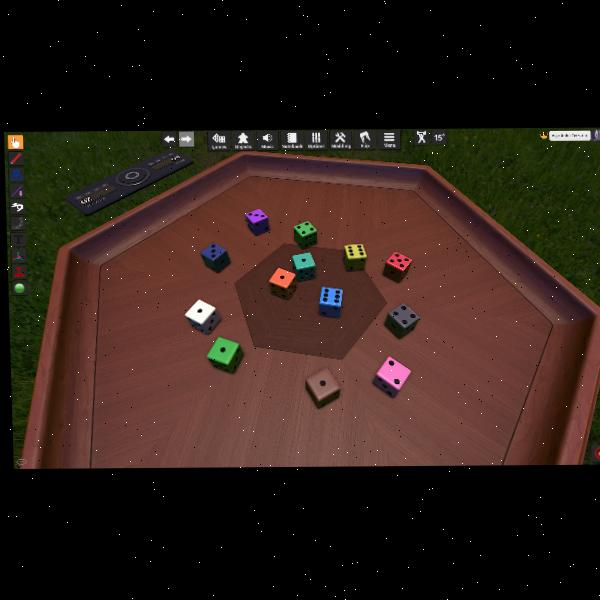d6: (372, 355, 411, 398), (306, 368, 341, 408), (206, 336, 243, 373), (384, 302, 420, 340), (185, 298, 221, 335), (382, 250, 412, 282), (200, 242, 230, 273), (269, 267, 298, 299), (318, 286, 342, 317), (291, 251, 315, 280), (245, 208, 269, 236), (342, 243, 365, 272), (293, 222, 315, 248)
